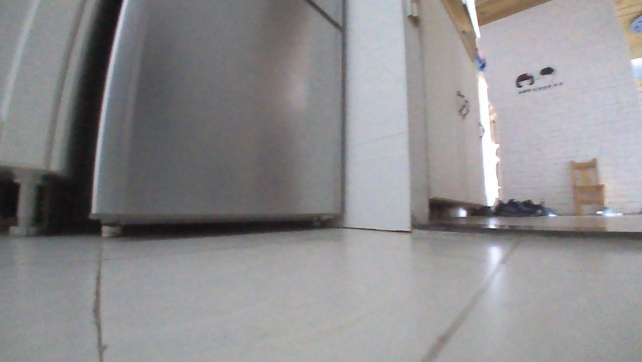refrigerator1: (88, 0, 348, 238)
